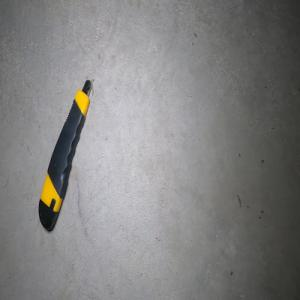Cutter: (37, 78, 92, 230)
